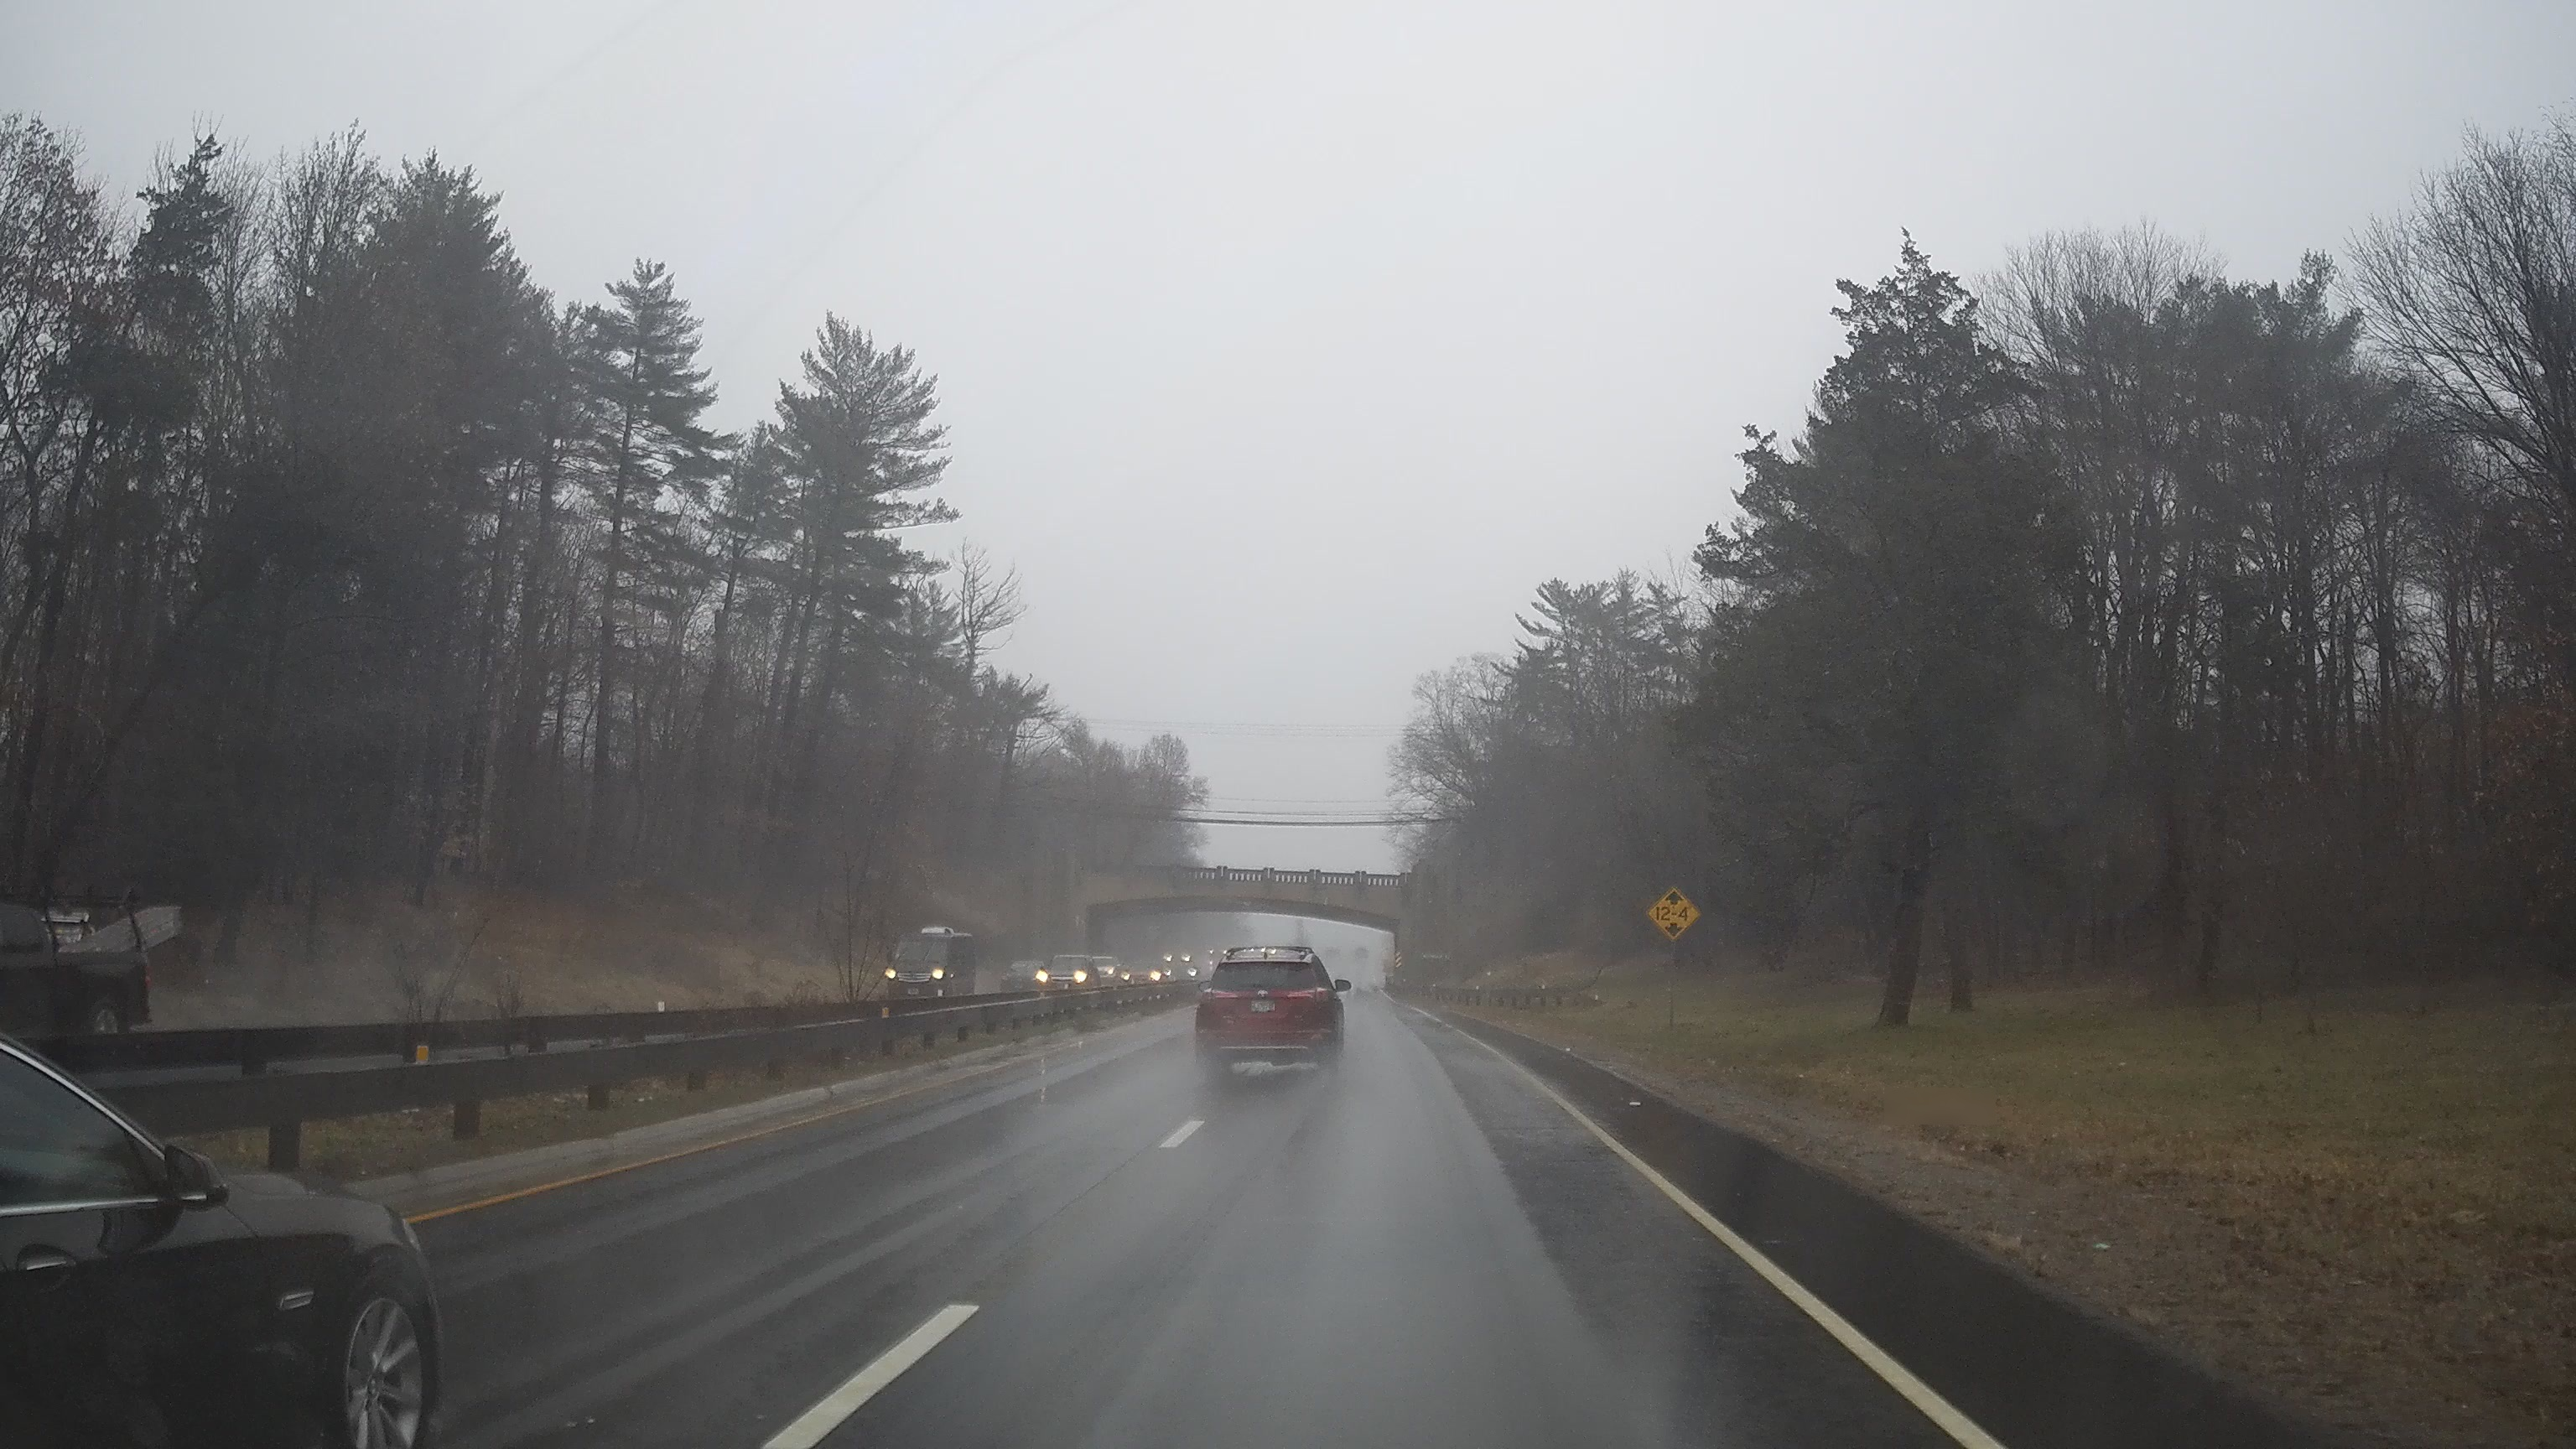low-clearance-sign: (1645, 885, 1702, 943)
